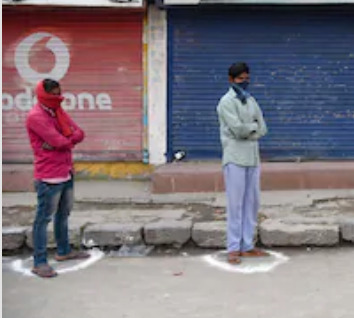Caution: (22, 59, 268, 278)
